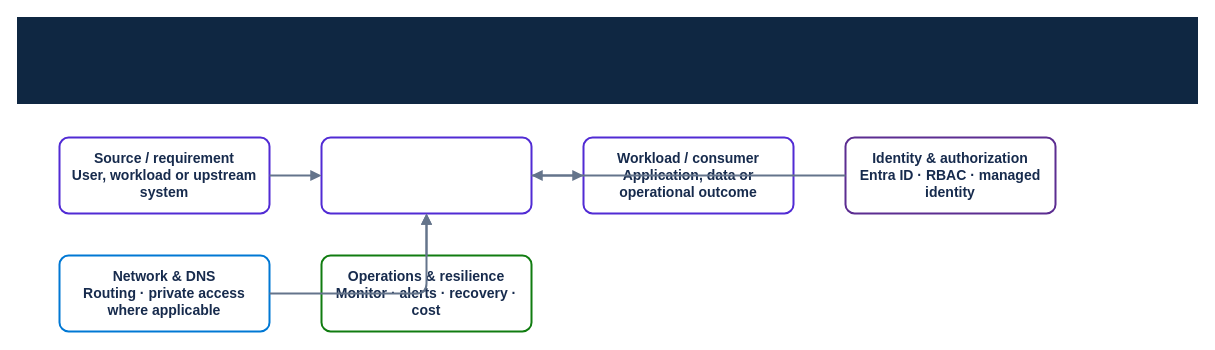
The diagram is 1215 pixels wide and 350 high, and some of its shapes have lost their labels. The centre of each missing label's shape, as x and y in pixels:
"AKS Ingress, Scaling & Workload Identity" goes at (607,60).
"AKS Ingress, Scaling & Workload Identity Azure service / architecture control" goes at (426,175).
